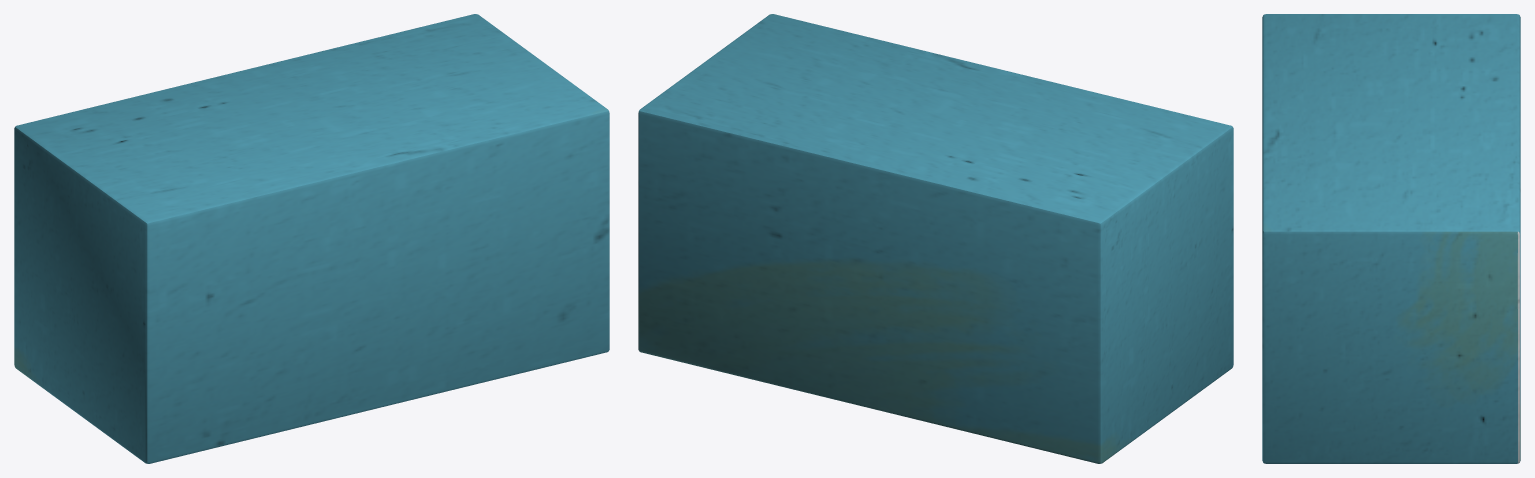
Rendered from TOMB_GROUND_2_001.obj.
The picture shows the model from 3 angles, left to right: view 1: azimuth 30°, elevation 25°; view 2: azimuth 150°, elevation 25°; view 3: azimuth 270°, elevation 25°; orthographic projection. The views are drawn at different scales.
Visible parts, largest first — view 1: TOMB_GROUND_2_001; view 2: TOMB_GROUND_2_001; view 3: TOMB_GROUND_2_001.
Boxes of the visible parts, x1,y1,x2,y2 form: TOMB_GROUND_2_001: (14, 14, 609, 463); TOMB_GROUND_2_001: (638, 14, 1233, 463); TOMB_GROUND_2_001: (1262, 14, 1520, 463).
Size of the model in its own units: 2 by 1 by 1.
1 material, 1 textured.
